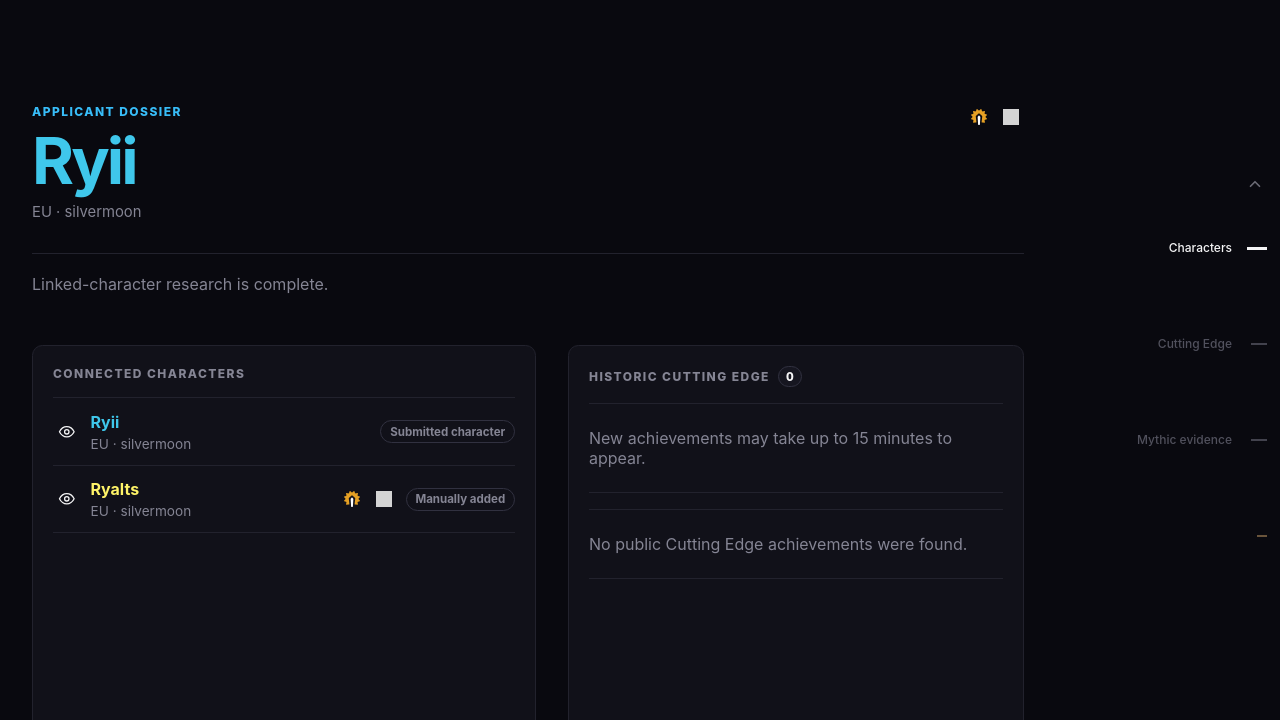
Test: DossierPageClient character visibility › shows only one character from the eye's context menu
The image size is (1280, 720).
Right-click the button named "Show Ryii in the evidence".
right_click(67, 432)  # box [53,418,81,446]
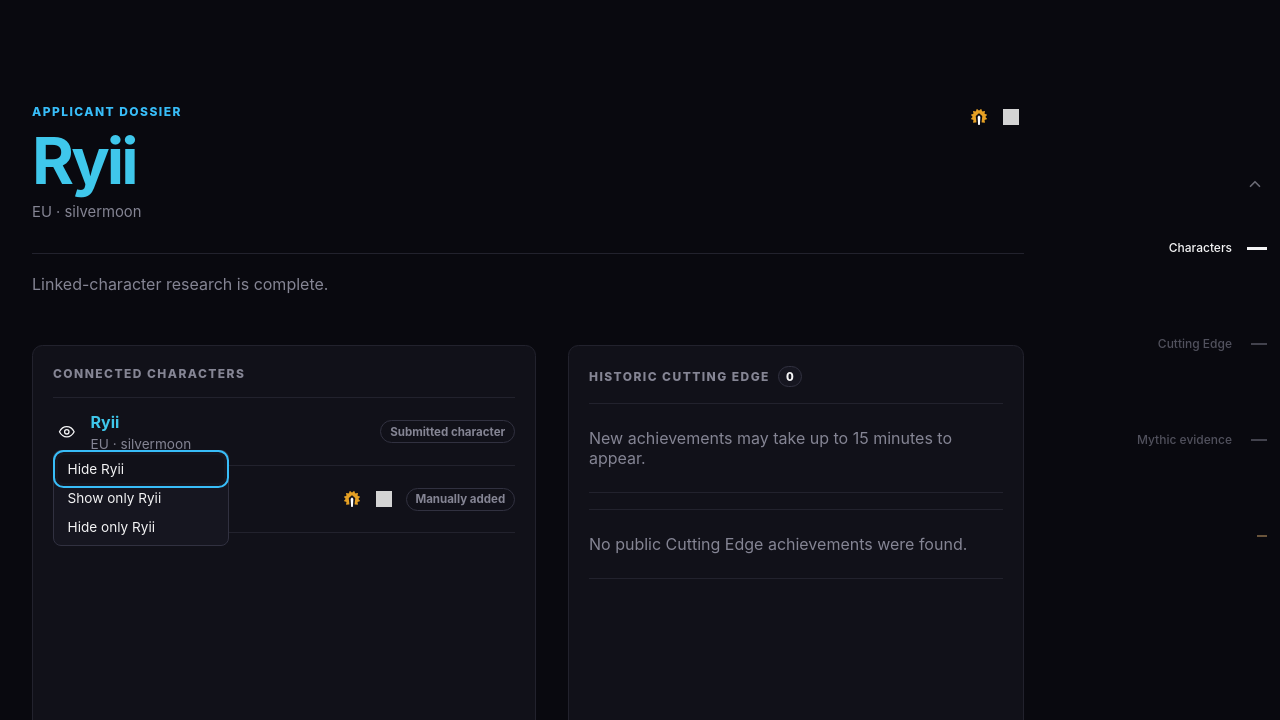
Click the menu item "Show only Ryii".
click(141, 498)  # box [58,484,224,512]
(page scrolled)
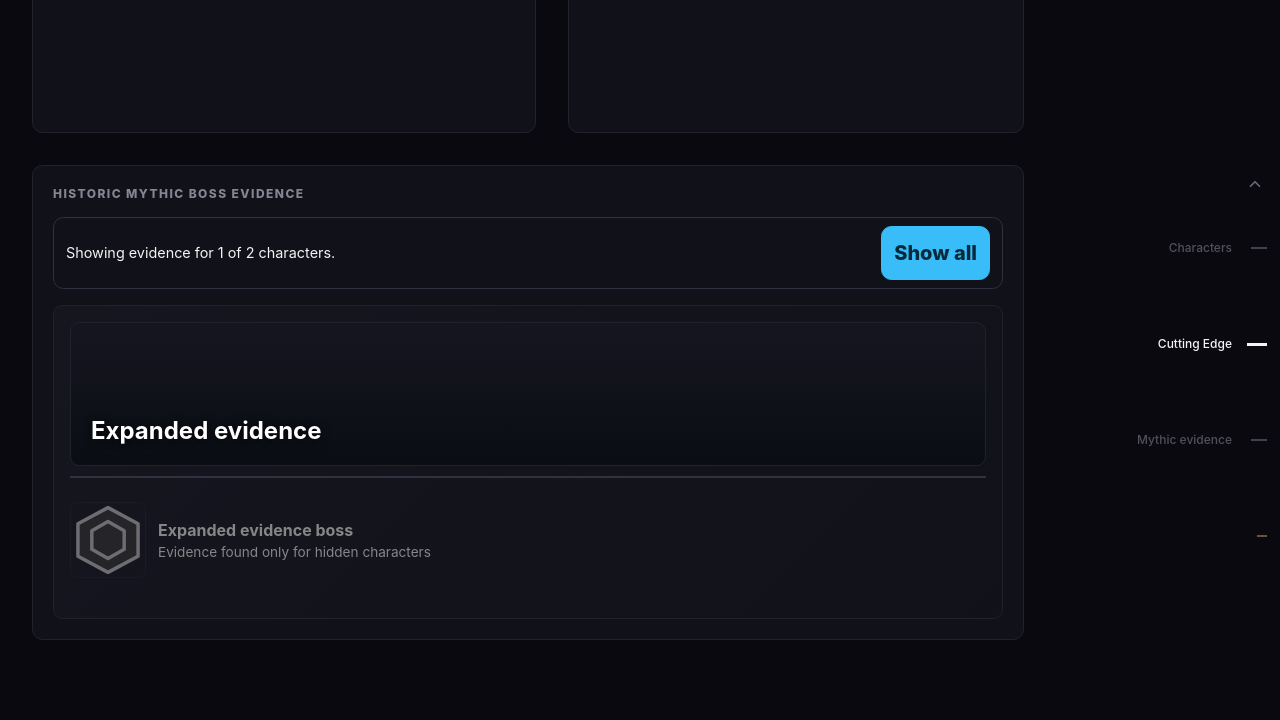
Result: the element "Expanded evidence boss Evidence" shows "Evidence found only for hidden characters" at [158,544,431,560]
